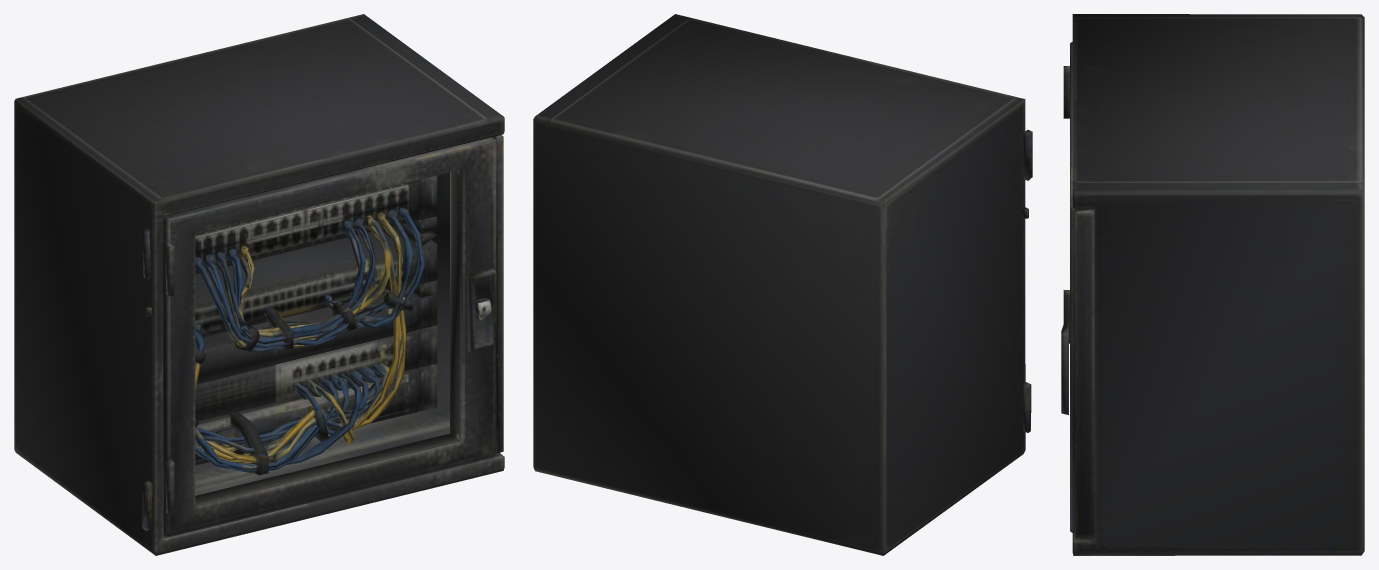
Rendered from p7-wall-data-cabinet-t25.glb.
3 renders of one model, left to right at view 1: azimuth 30°, elevation 25°; view 2: azimuth 150°, elevation 25°; view 3: azimuth 270°, elevation 25°, orthographic. The views are drawn at different scales.
Parts seen in each view (by area): view 1: p7-wall-data-cabinet-t25; view 2: p7-wall-data-cabinet-t25; view 3: p7-wall-data-cabinet-t25.
Boxes of the visible parts, x1,y1,x2,y2 form: p7-wall-data-cabinet-t25: (14, 14, 504, 555); p7-wall-data-cabinet-t25: (533, 14, 1032, 555); p7-wall-data-cabinet-t25: (1061, 14, 1364, 555).
Size of the model in its own units: 0.635 by 0.6 by 0.45.
Materials: 1 (1 with a texture image).
